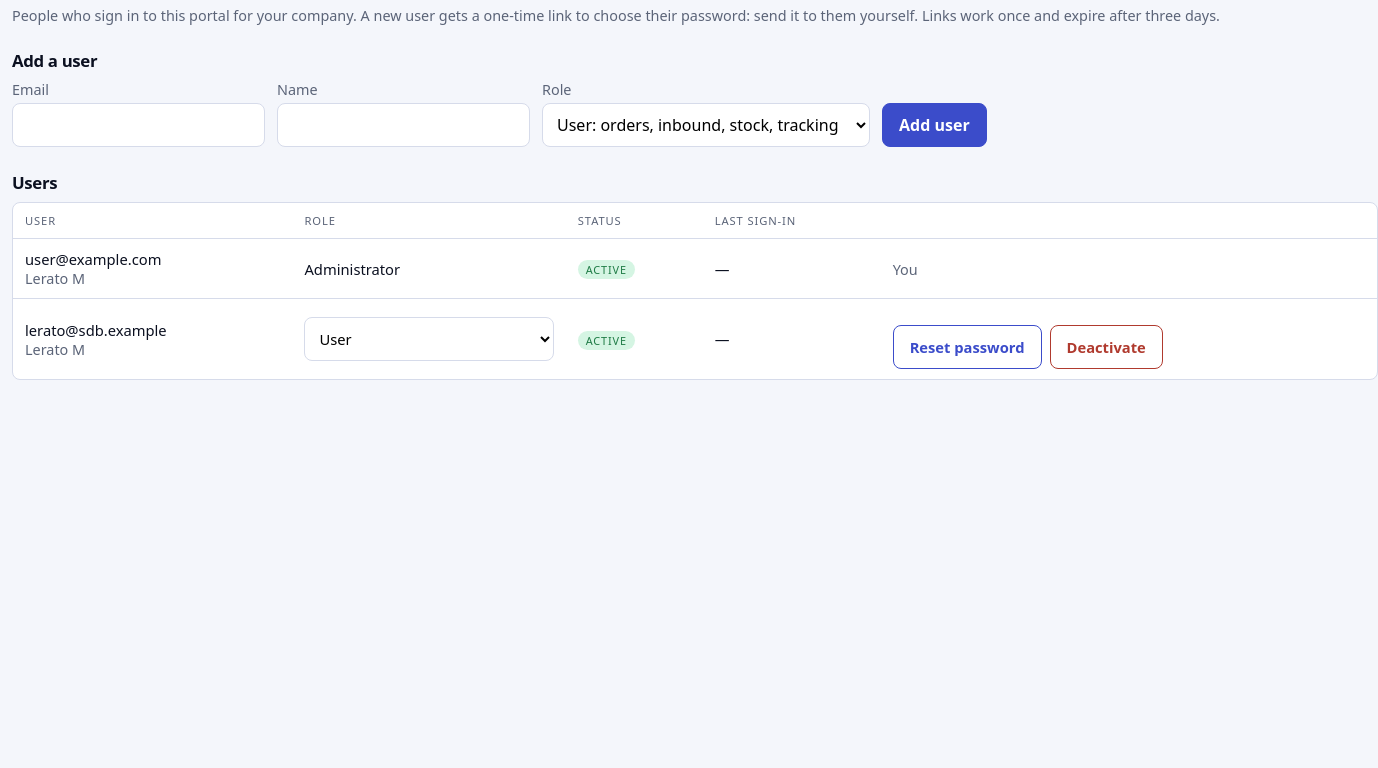
Test: adds a user and shows their one-time link, changes roles, and resets passwords
Check: the text "You" is shown, box [893,260,918,278]
Type "thabo@sdb.example" into the field labelled "Email" at (138, 125), box [12,103,265,147]
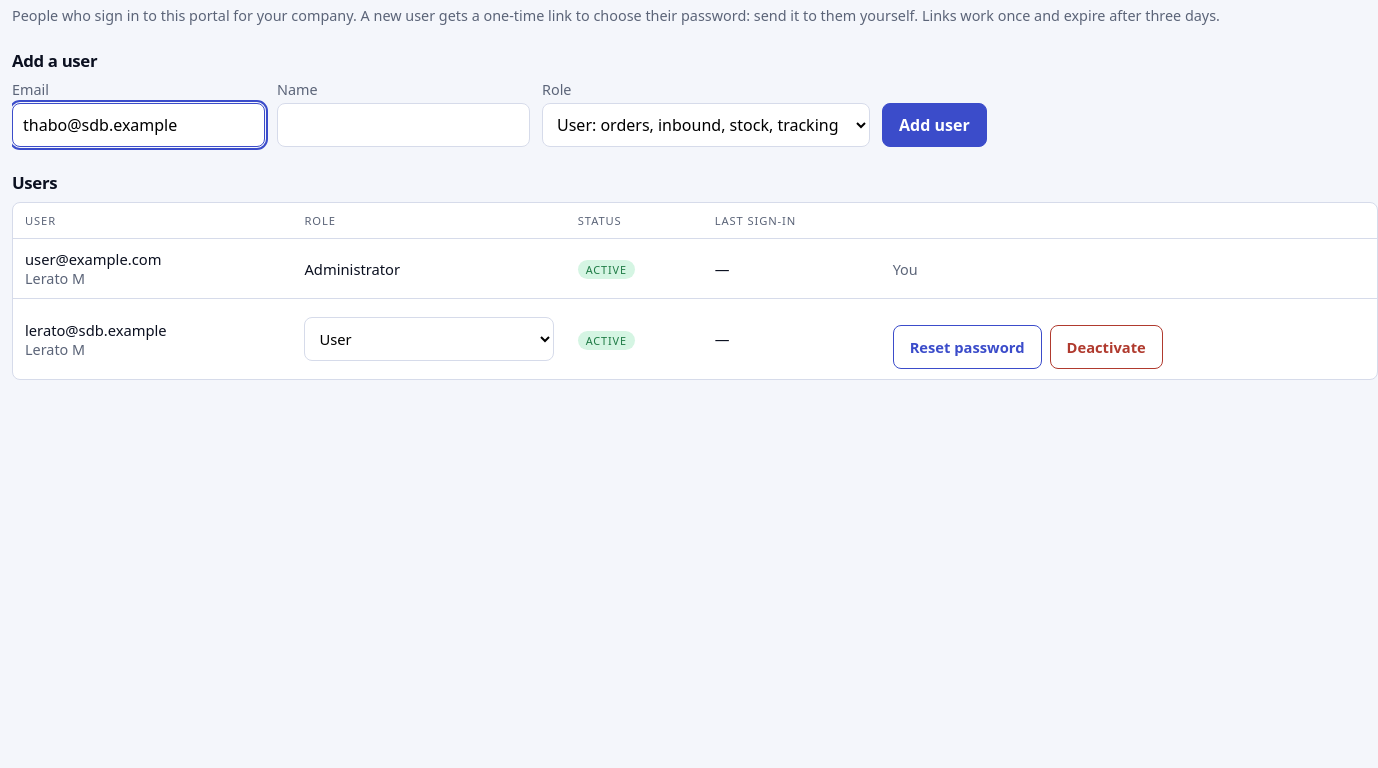
Select "Administrator: also items and settings" in the dropdown labelled "Role" at (706, 125), box [542,103,870,147]
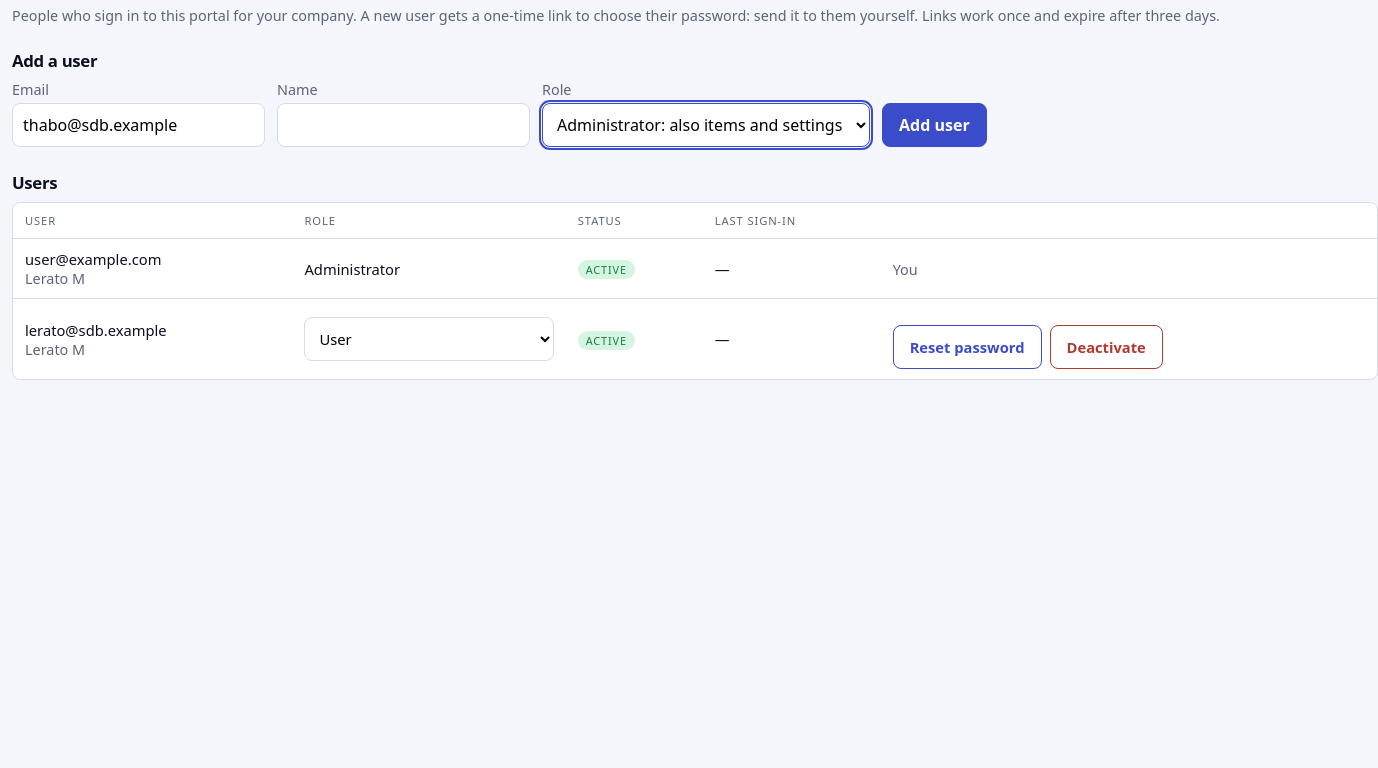
Click the button "Add user" at (934, 125), box [882,103,987,147]
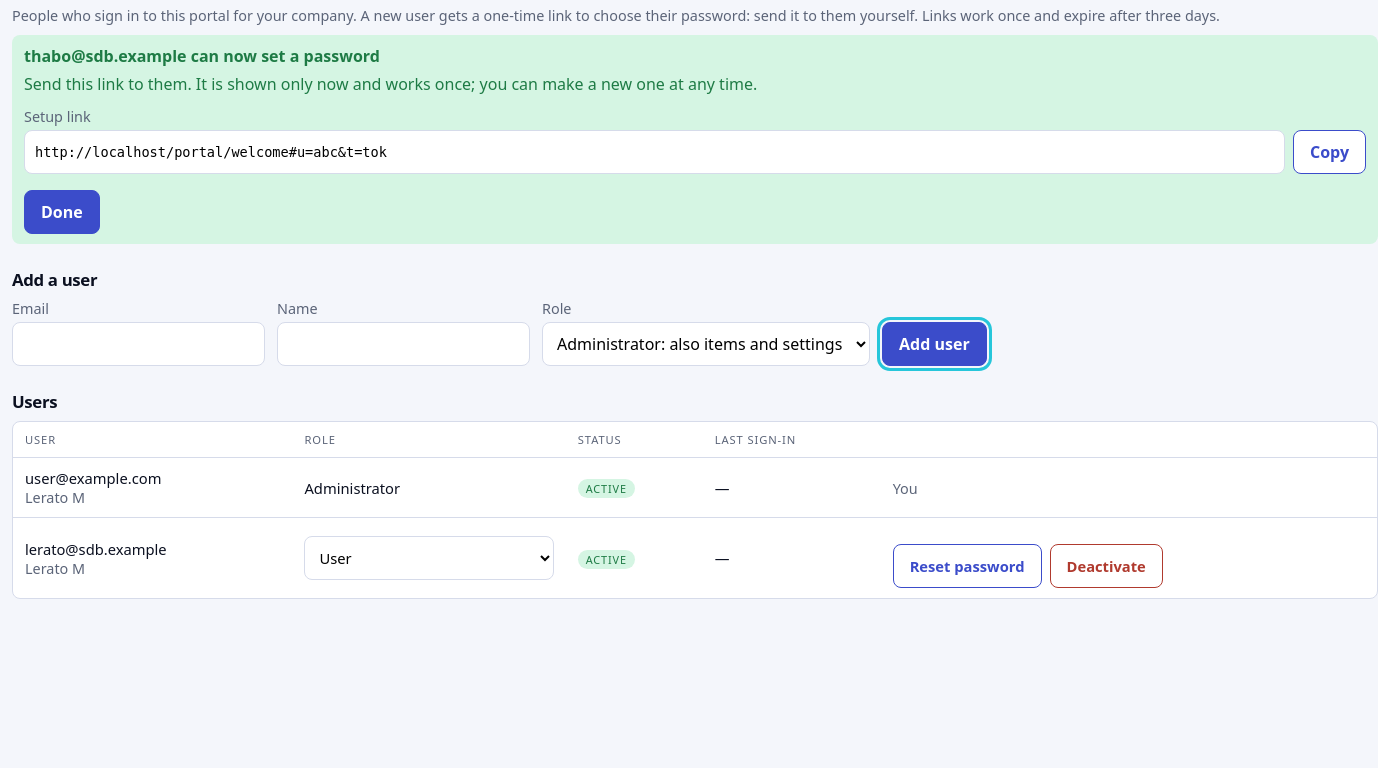
Click the button "Done" at (62, 212), box [24,190,100,234]
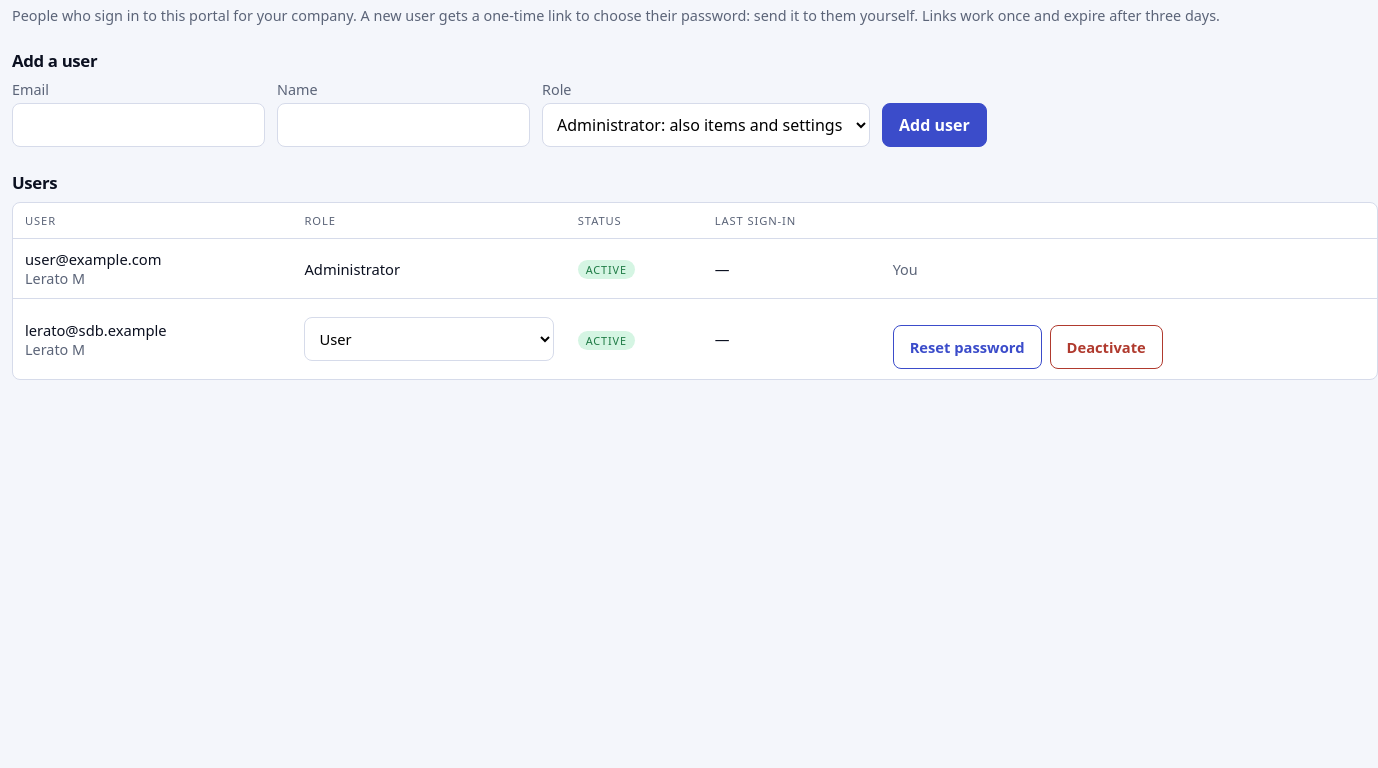
Check: the label labelled "Setup link" is gone
Select "Administrator" in the dropdown named "Role of lerato@sdb.example" at (429, 339), box [304,317,554,361]
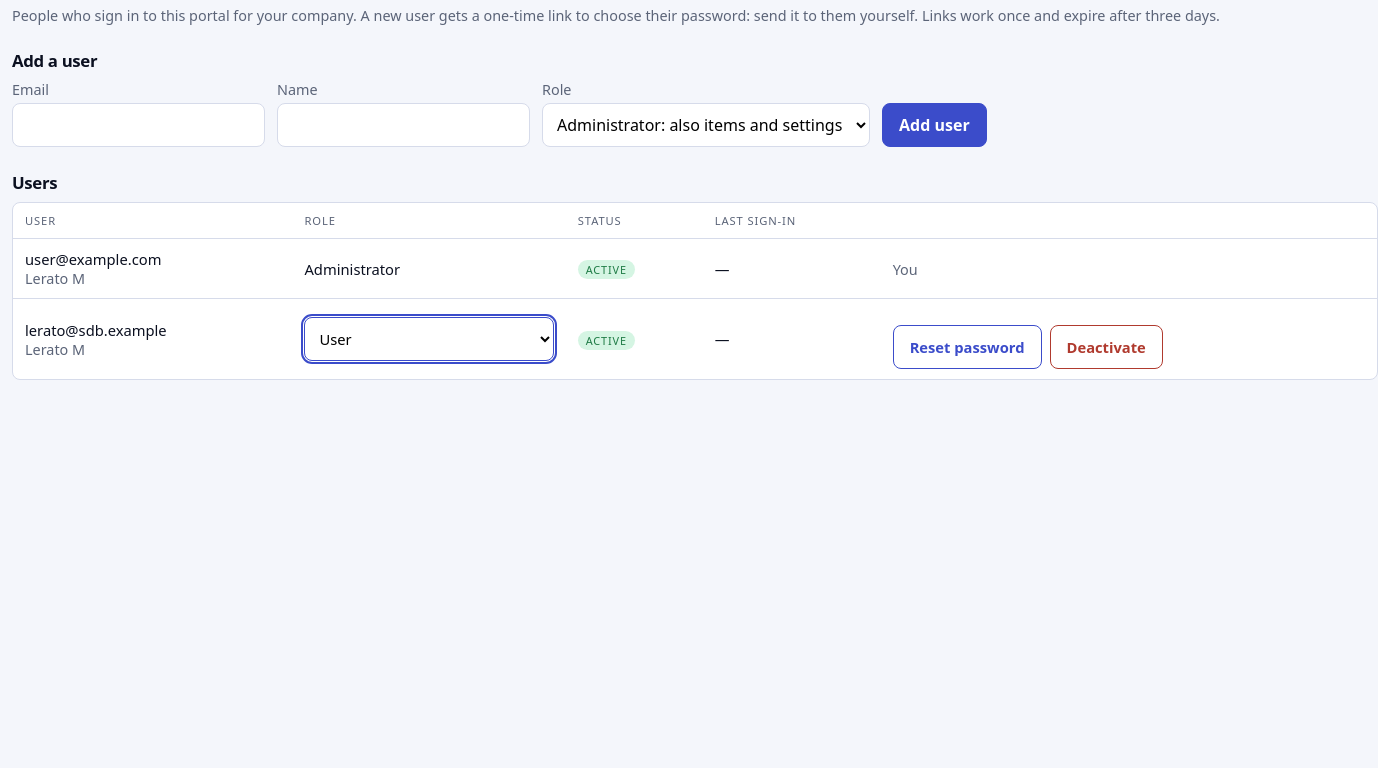
Click the button "Reset password" at (967, 347), box [893,325,1042,369]
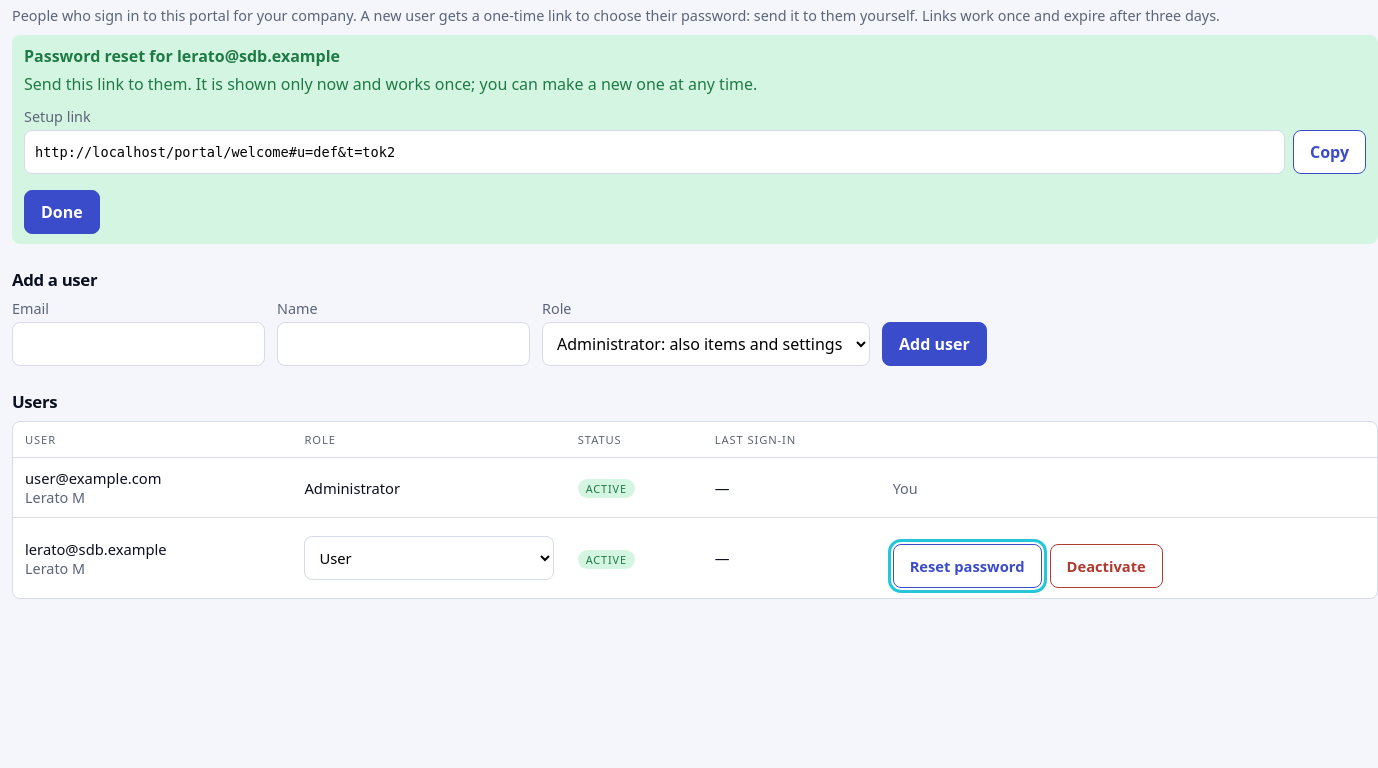
Check: the text "Password reset for lerato@sdb.example" is shown, box [24,45,340,67]
